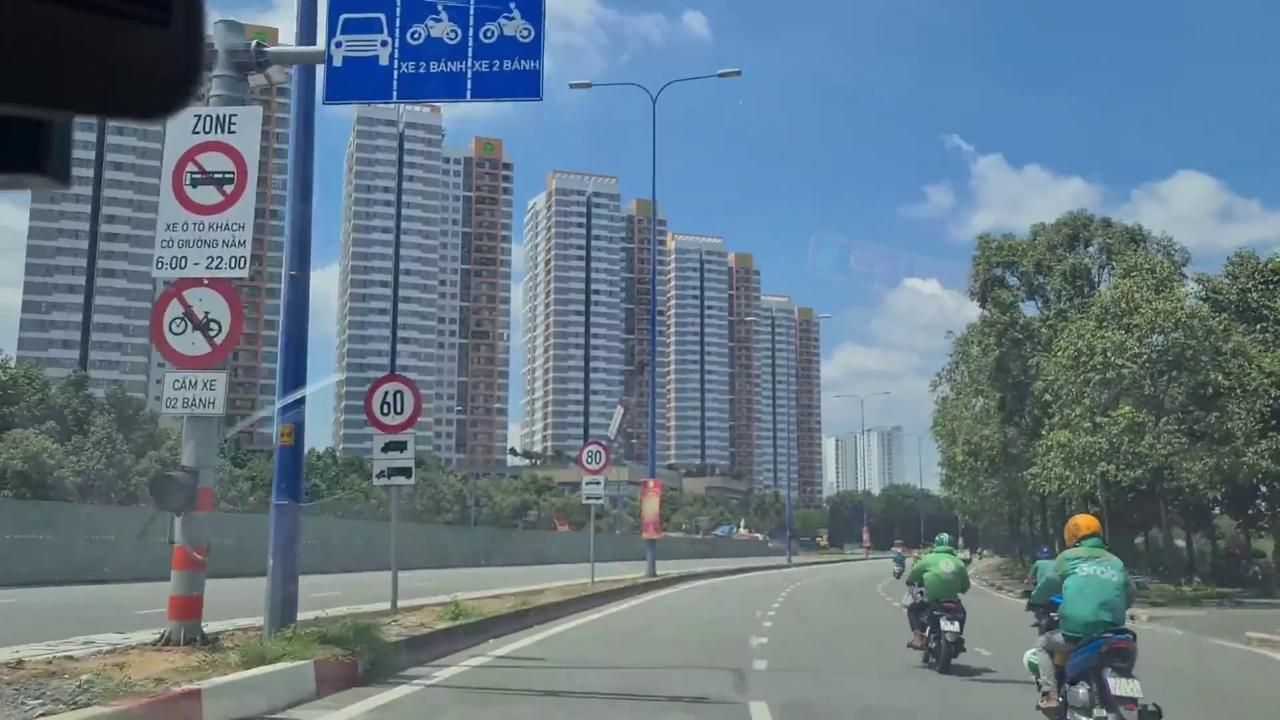Biển phụ: (160, 370, 228, 418), (371, 434, 416, 487), (581, 476, 605, 505)
Cấm cac phương tiện hoạt động trong khung giờ cố định: (153, 103, 257, 279)
Cấm xe máy: (149, 276, 244, 373)
GIơi hạn tốc độ 60Km/h: (365, 372, 424, 434)
Giới hạn tốc độ 80Km/h: (577, 440, 611, 476)
Làn đường cho từng xe: (321, 1, 548, 106)
